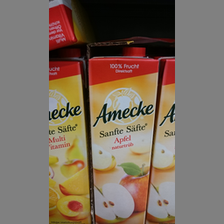juice: (88, 42, 160, 224), (50, 54, 91, 224)
